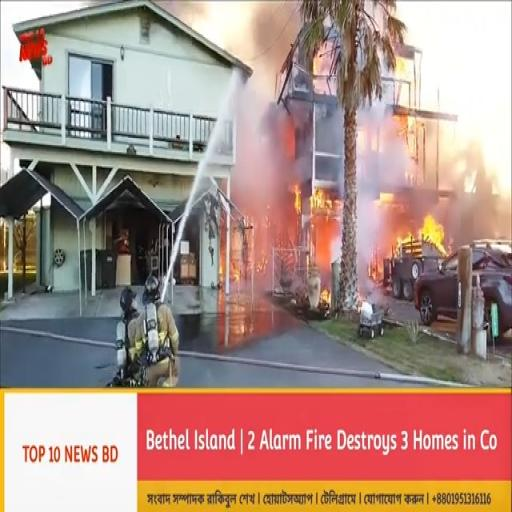fire: (418, 203, 448, 263)
